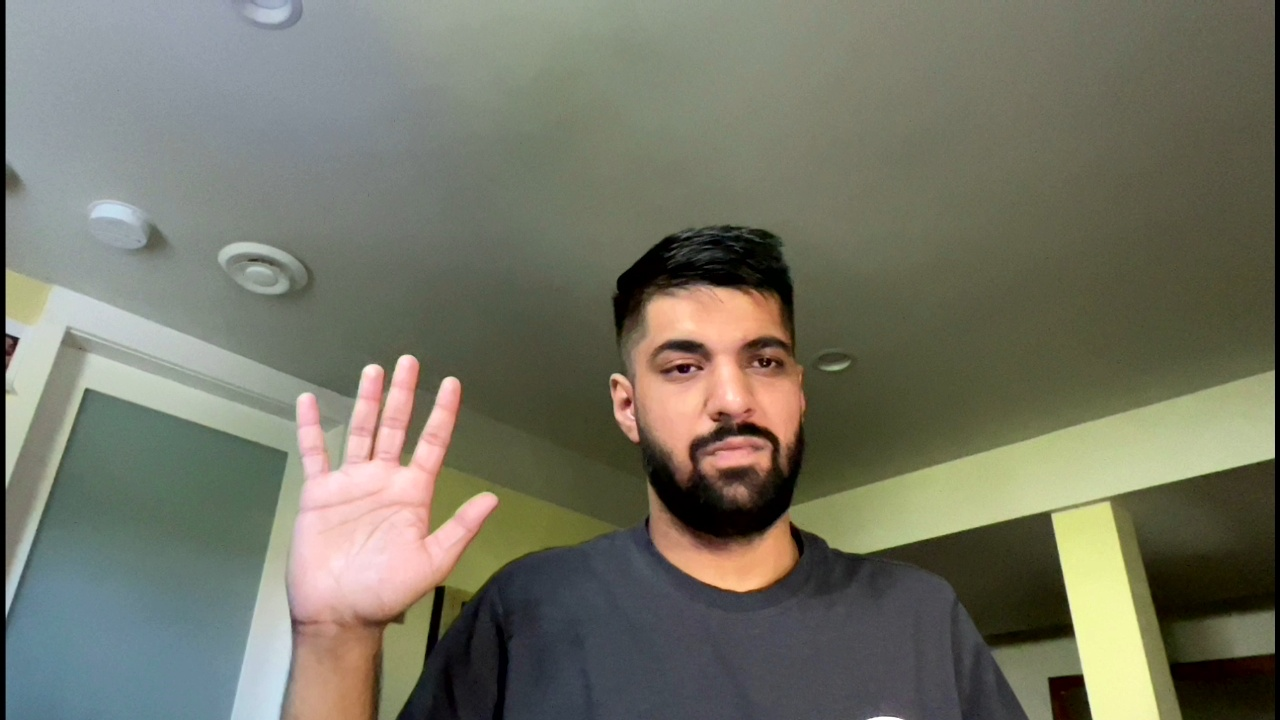Hey!: (258, 347, 506, 628)
